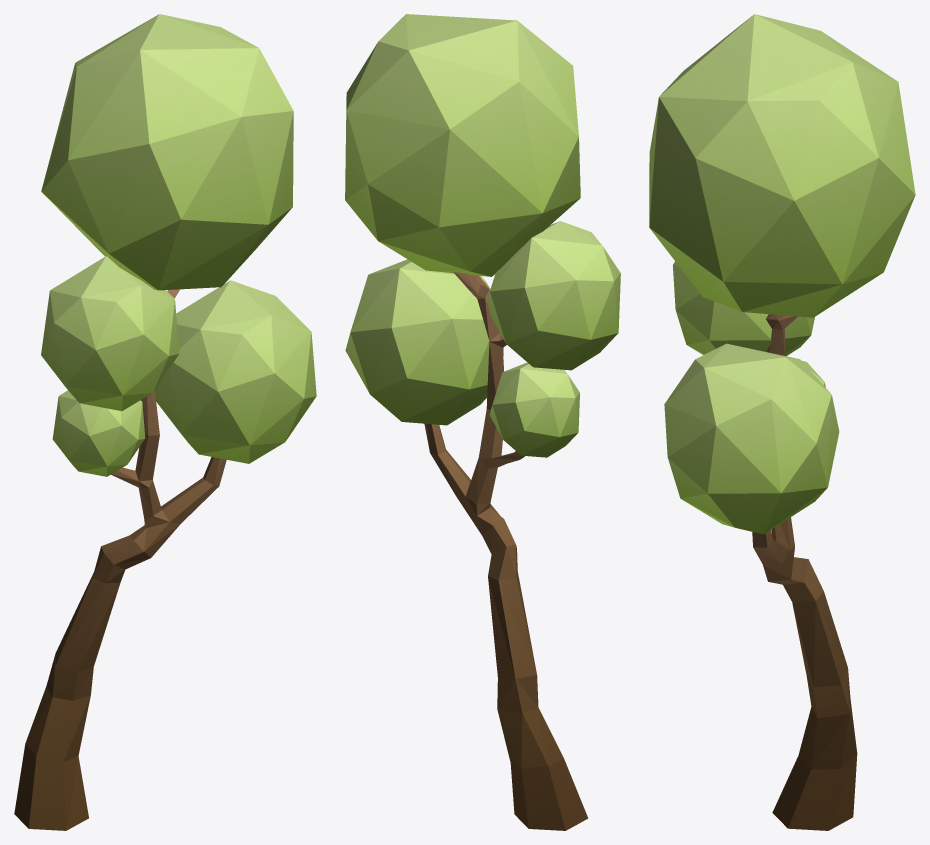
Rendered from ZLP_Plant_I_2.FBX.
3 views of the same model, side by side, from view 1: azimuth 30°, elevation 25°; view 2: azimuth 150°, elevation 25°; view 3: azimuth 270°, elevation 25° (orthographic). The views are drawn at different scales.
Visible parts, largest first — view 1: ZLP_Plant_I_2; view 2: ZLP_Plant_I_2; view 3: ZLP_Plant_I_2.
Part boxes in pixels (box(x1,y1,x2,y2)): ZLP_Plant_I_2: box(14, 14, 316, 830); ZLP_Plant_I_2: box(345, 14, 620, 830); ZLP_Plant_I_2: box(649, 14, 915, 830).
Bounding box in the file's own units: 63.23 × 184 × 53.17.
